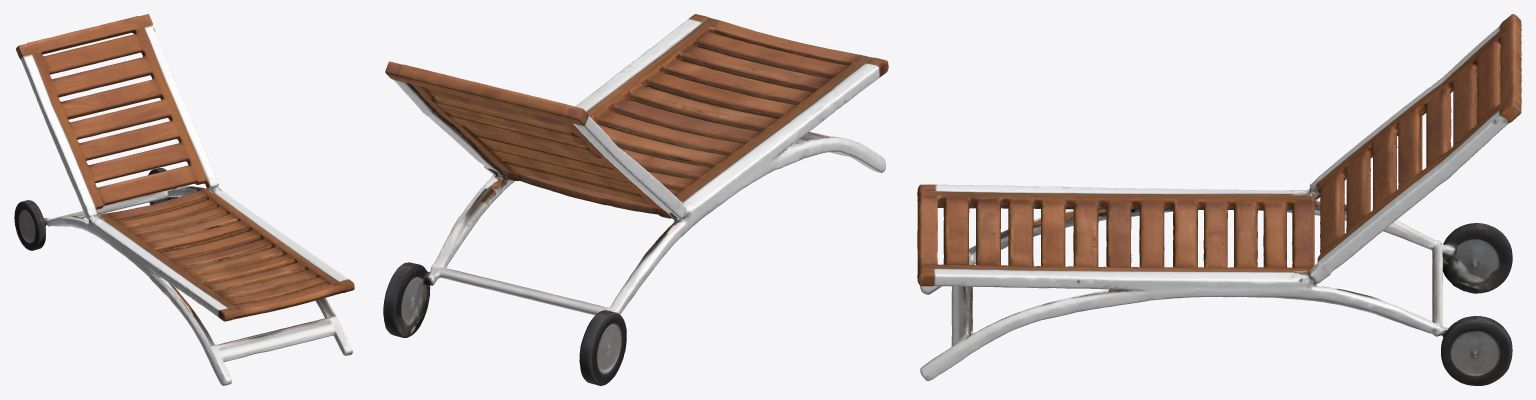
Rendered from image_png_1007082901_texture.fbx.
3 renders of one model, left to right at view 1: azimuth 30°, elevation 25°; view 2: azimuth 150°, elevation 25°; view 3: azimuth 270°, elevation 25°, orthographic. The views are drawn at different scales.
Parts seen in each view (by area): view 1: Mesh1.0; view 2: Mesh1.0; view 3: Mesh1.0.
Boxes of the visible parts, <box> form: Mesh1.0: <box>14,14,354,385</box>; Mesh1.0: <box>383,14,888,385</box>; Mesh1.0: <box>917,14,1521,385</box>.
Size of the model in its own units: 74.04 by 97.42 by 191.
Materials: 1 (1 with a texture image).
